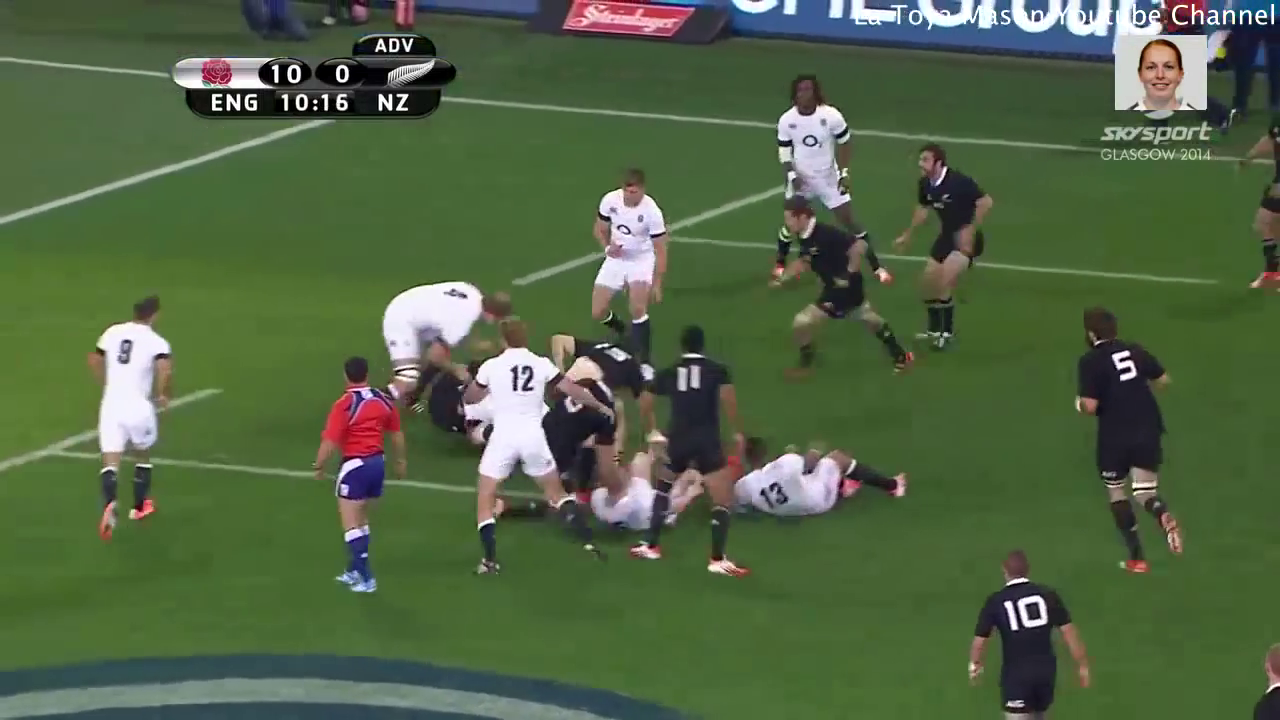player: (453, 305, 616, 578), (1059, 296, 1192, 596), (619, 304, 755, 584), (750, 67, 903, 300), (757, 191, 923, 385), (79, 276, 187, 549), (883, 132, 993, 375), (302, 348, 408, 600), (567, 164, 682, 389), (358, 264, 513, 426), (961, 541, 1099, 720), (725, 424, 922, 535), (546, 308, 642, 414), (1236, 98, 1280, 300), (1241, 632, 1280, 720)
